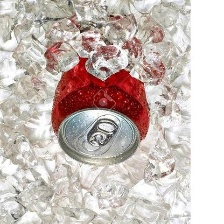can: (49, 58, 156, 168)
